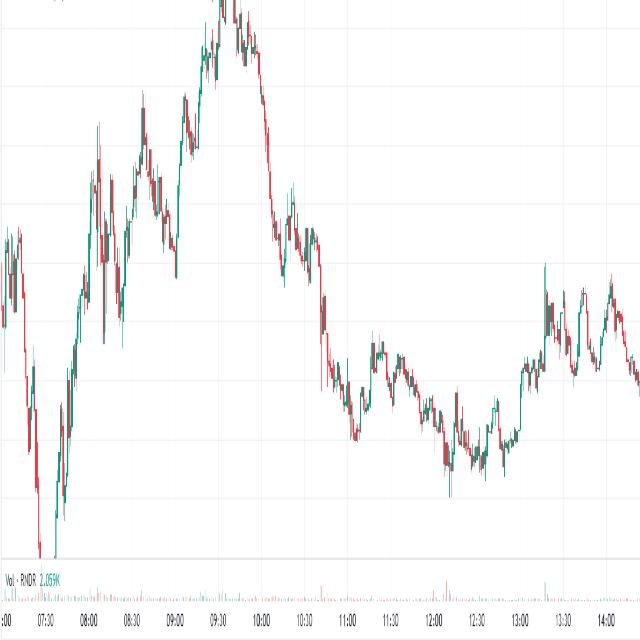Head-Shoulders: (194, 0, 270, 150)
Inverse-Head-Shoulders: (20, 233, 84, 557), (341, 334, 374, 452)
